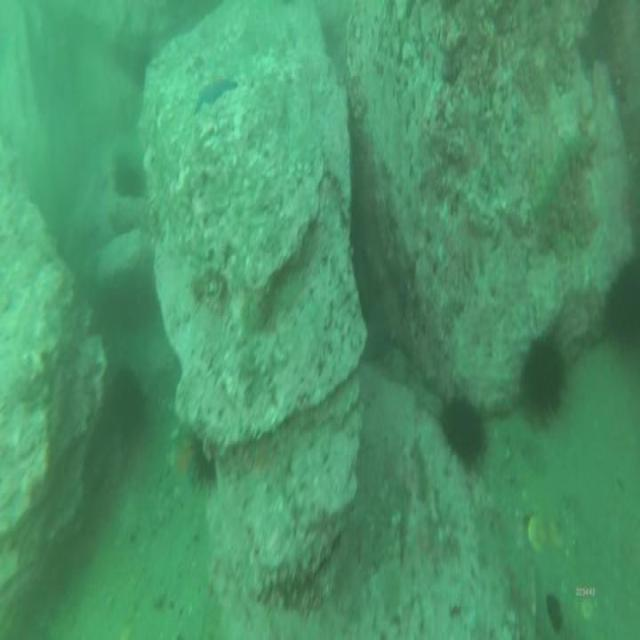echinus: (525, 340, 567, 420), (442, 395, 488, 463), (111, 373, 148, 433), (111, 160, 141, 200)
starfish: (197, 74, 239, 106), (168, 447, 193, 493)
